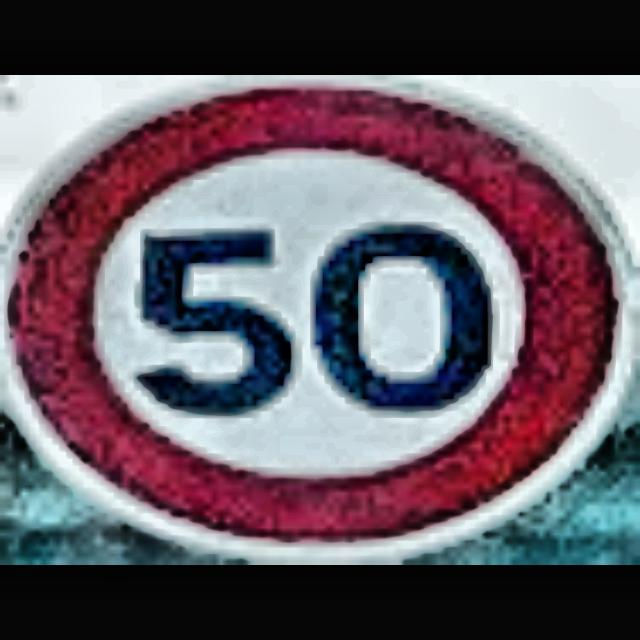speed_50: (0, 75, 640, 565)
